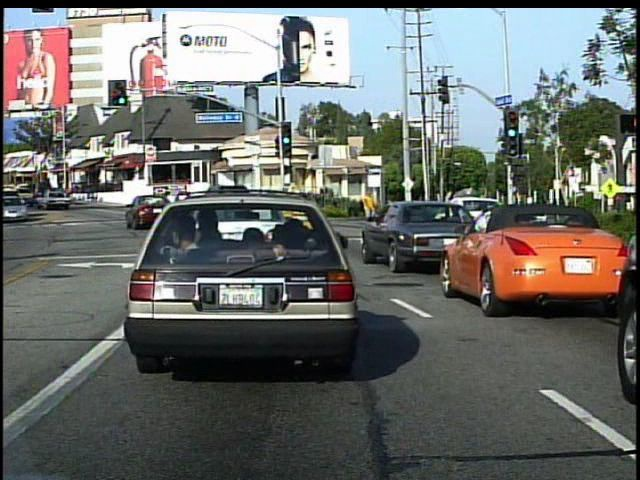person: (414, 187, 436, 234), (360, 187, 378, 222)
